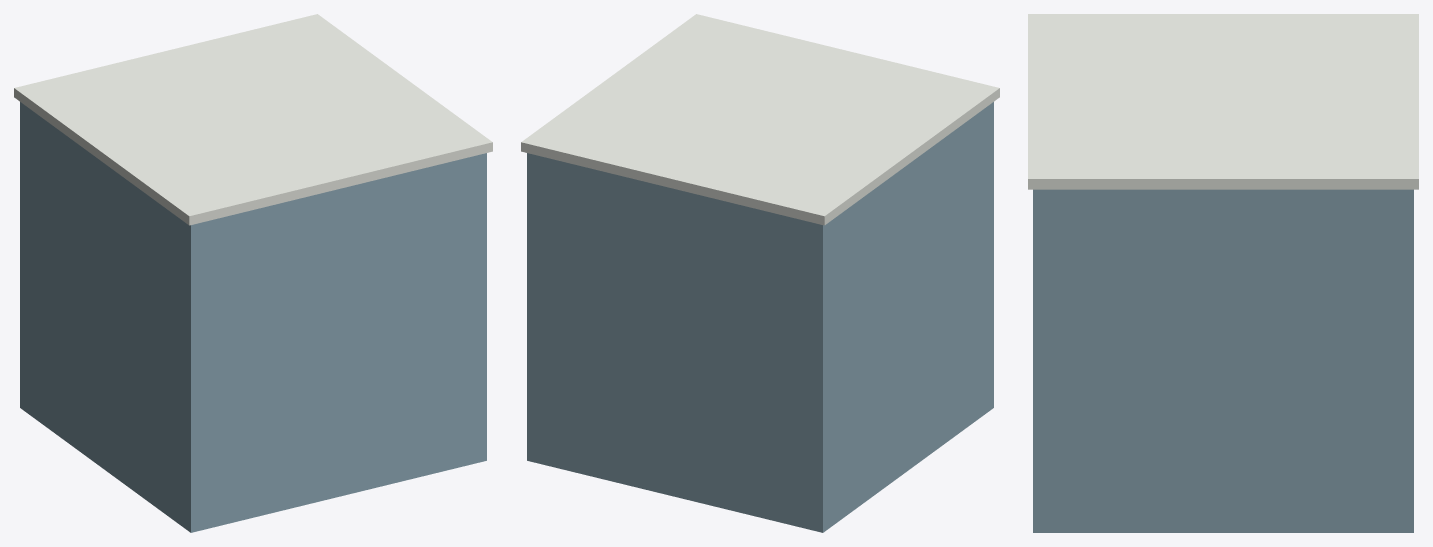
Rendered from building_slate.glb.
3 renders of one model, left to right at view 1: azimuth 30°, elevation 25°; view 2: azimuth 150°, elevation 25°; view 3: azimuth 270°, elevation 25°, orthographic. The views are drawn at different scales.
Parts seen in each view (by area): view 1: building_slate; view 2: building_slate; view 3: building_slate.
Boxes of the visible parts, <box> form: building_slate: <box>14,14,492,532</box>; building_slate: <box>521,14,999,532</box>; building_slate: <box>1028,14,1418,532</box>.
Size of the model in its own units: 1.02 by 1.03 by 1.02.
